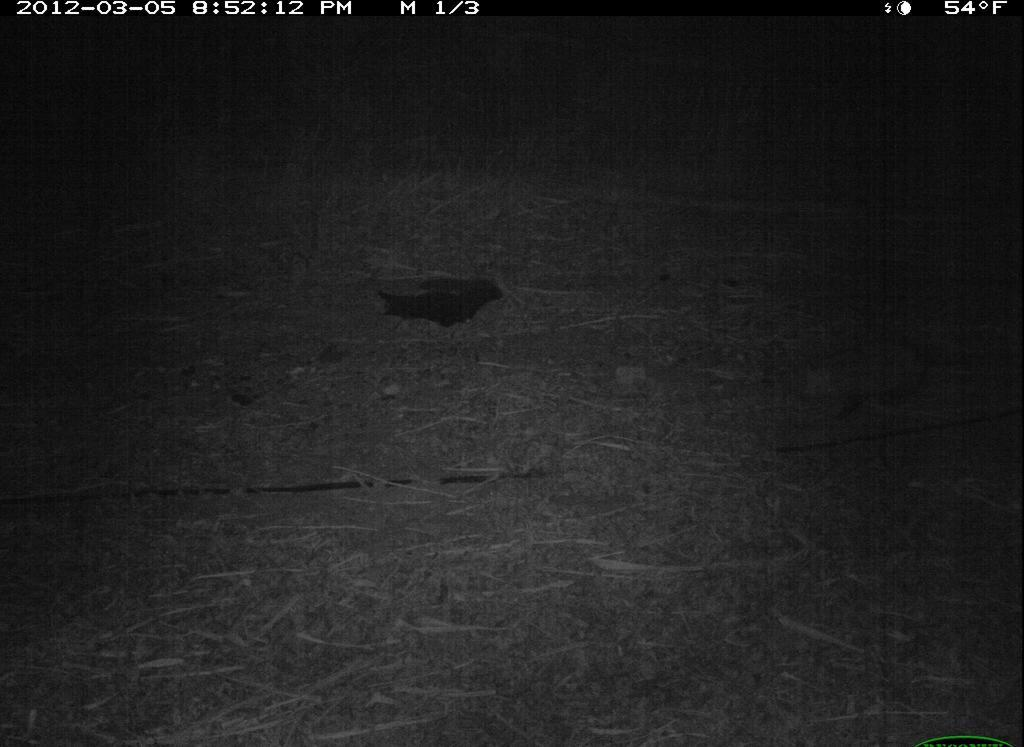opossum: (794, 327, 945, 418)
